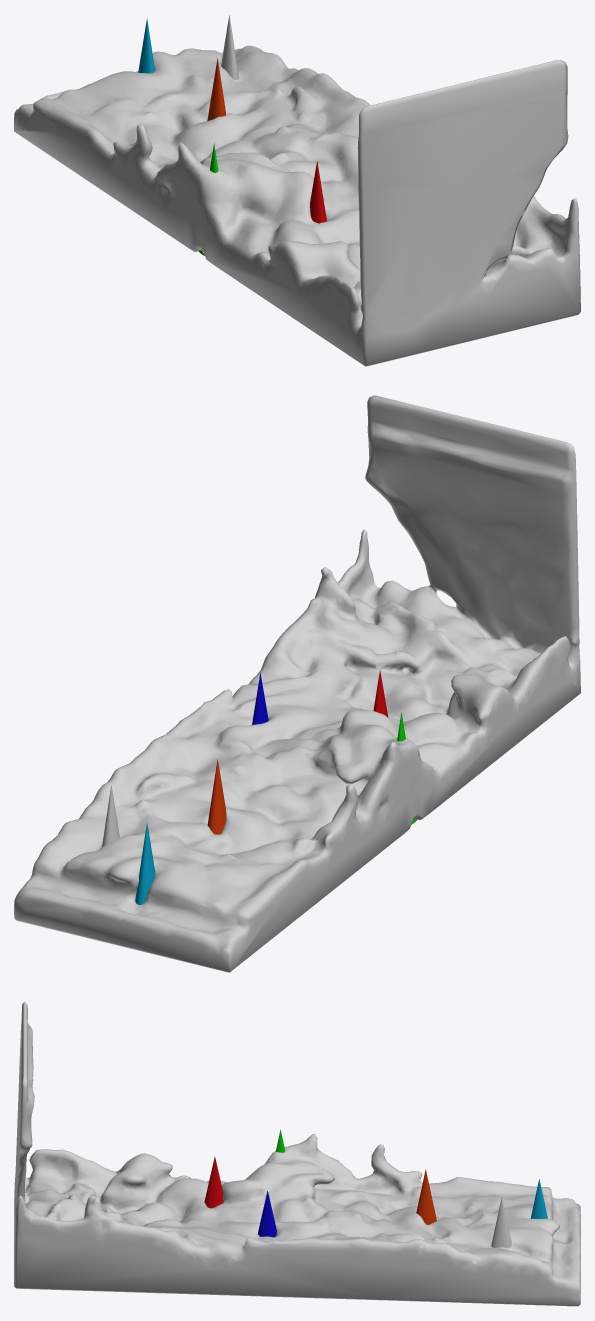
The picture shows the model from 3 angles, top to bottom: view 1: azimuth 30°, elevation 25°; view 2: azimuth 150°, elevation 25°; view 3: azimuth 270°, elevation 25°; orthographic projection. The views are drawn at different scales.
Visible parts, largest first — view 1: Liquid_Domain, 円錐.001, 円錐.004, 円錐, 円錐.005; view 2: Liquid_Domain, 円錐.005, 円錐.004; view 3: Liquid_Domain, 円錐.004, 円錐, 円錐.001, 円錐.002.
Boxes of the visible parts, <box> form: Liquid_Domain: <box>14,45,580,366</box>; 円錐.001: <box>310,161,326,223</box>; 円錐.004: <box>207,58,226,120</box>; 円錐: <box>221,15,238,79</box>; 円錐.005: <box>138,18,154,73</box>; Liquid_Domain: <box>14,395,580,972</box>; 円錐.005: <box>135,822,155,904</box>; 円錐.004: <box>207,759,226,834</box>; Liquid_Domain: <box>14,1001,580,1306</box>; 円錐.004: <box>416,1169,436,1224</box>; 円錐: <box>491,1197,511,1248</box>; 円錐.001: <box>204,1156,223,1208</box>; 円錐.002: <box>258,1191,276,1237</box>.
Bounding box in the file's own units: 129 × 158 × 361.
